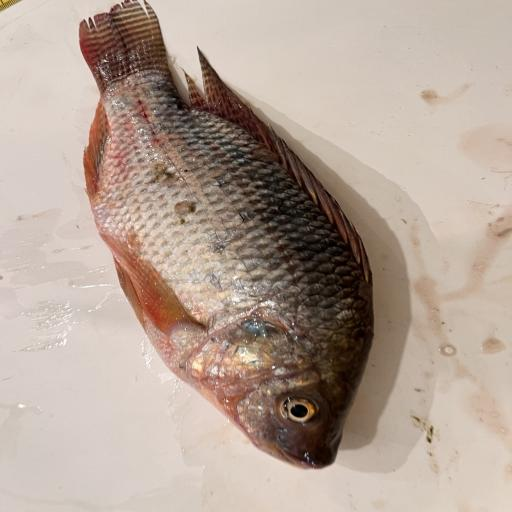Tilapia: (78, 0, 375, 470)
